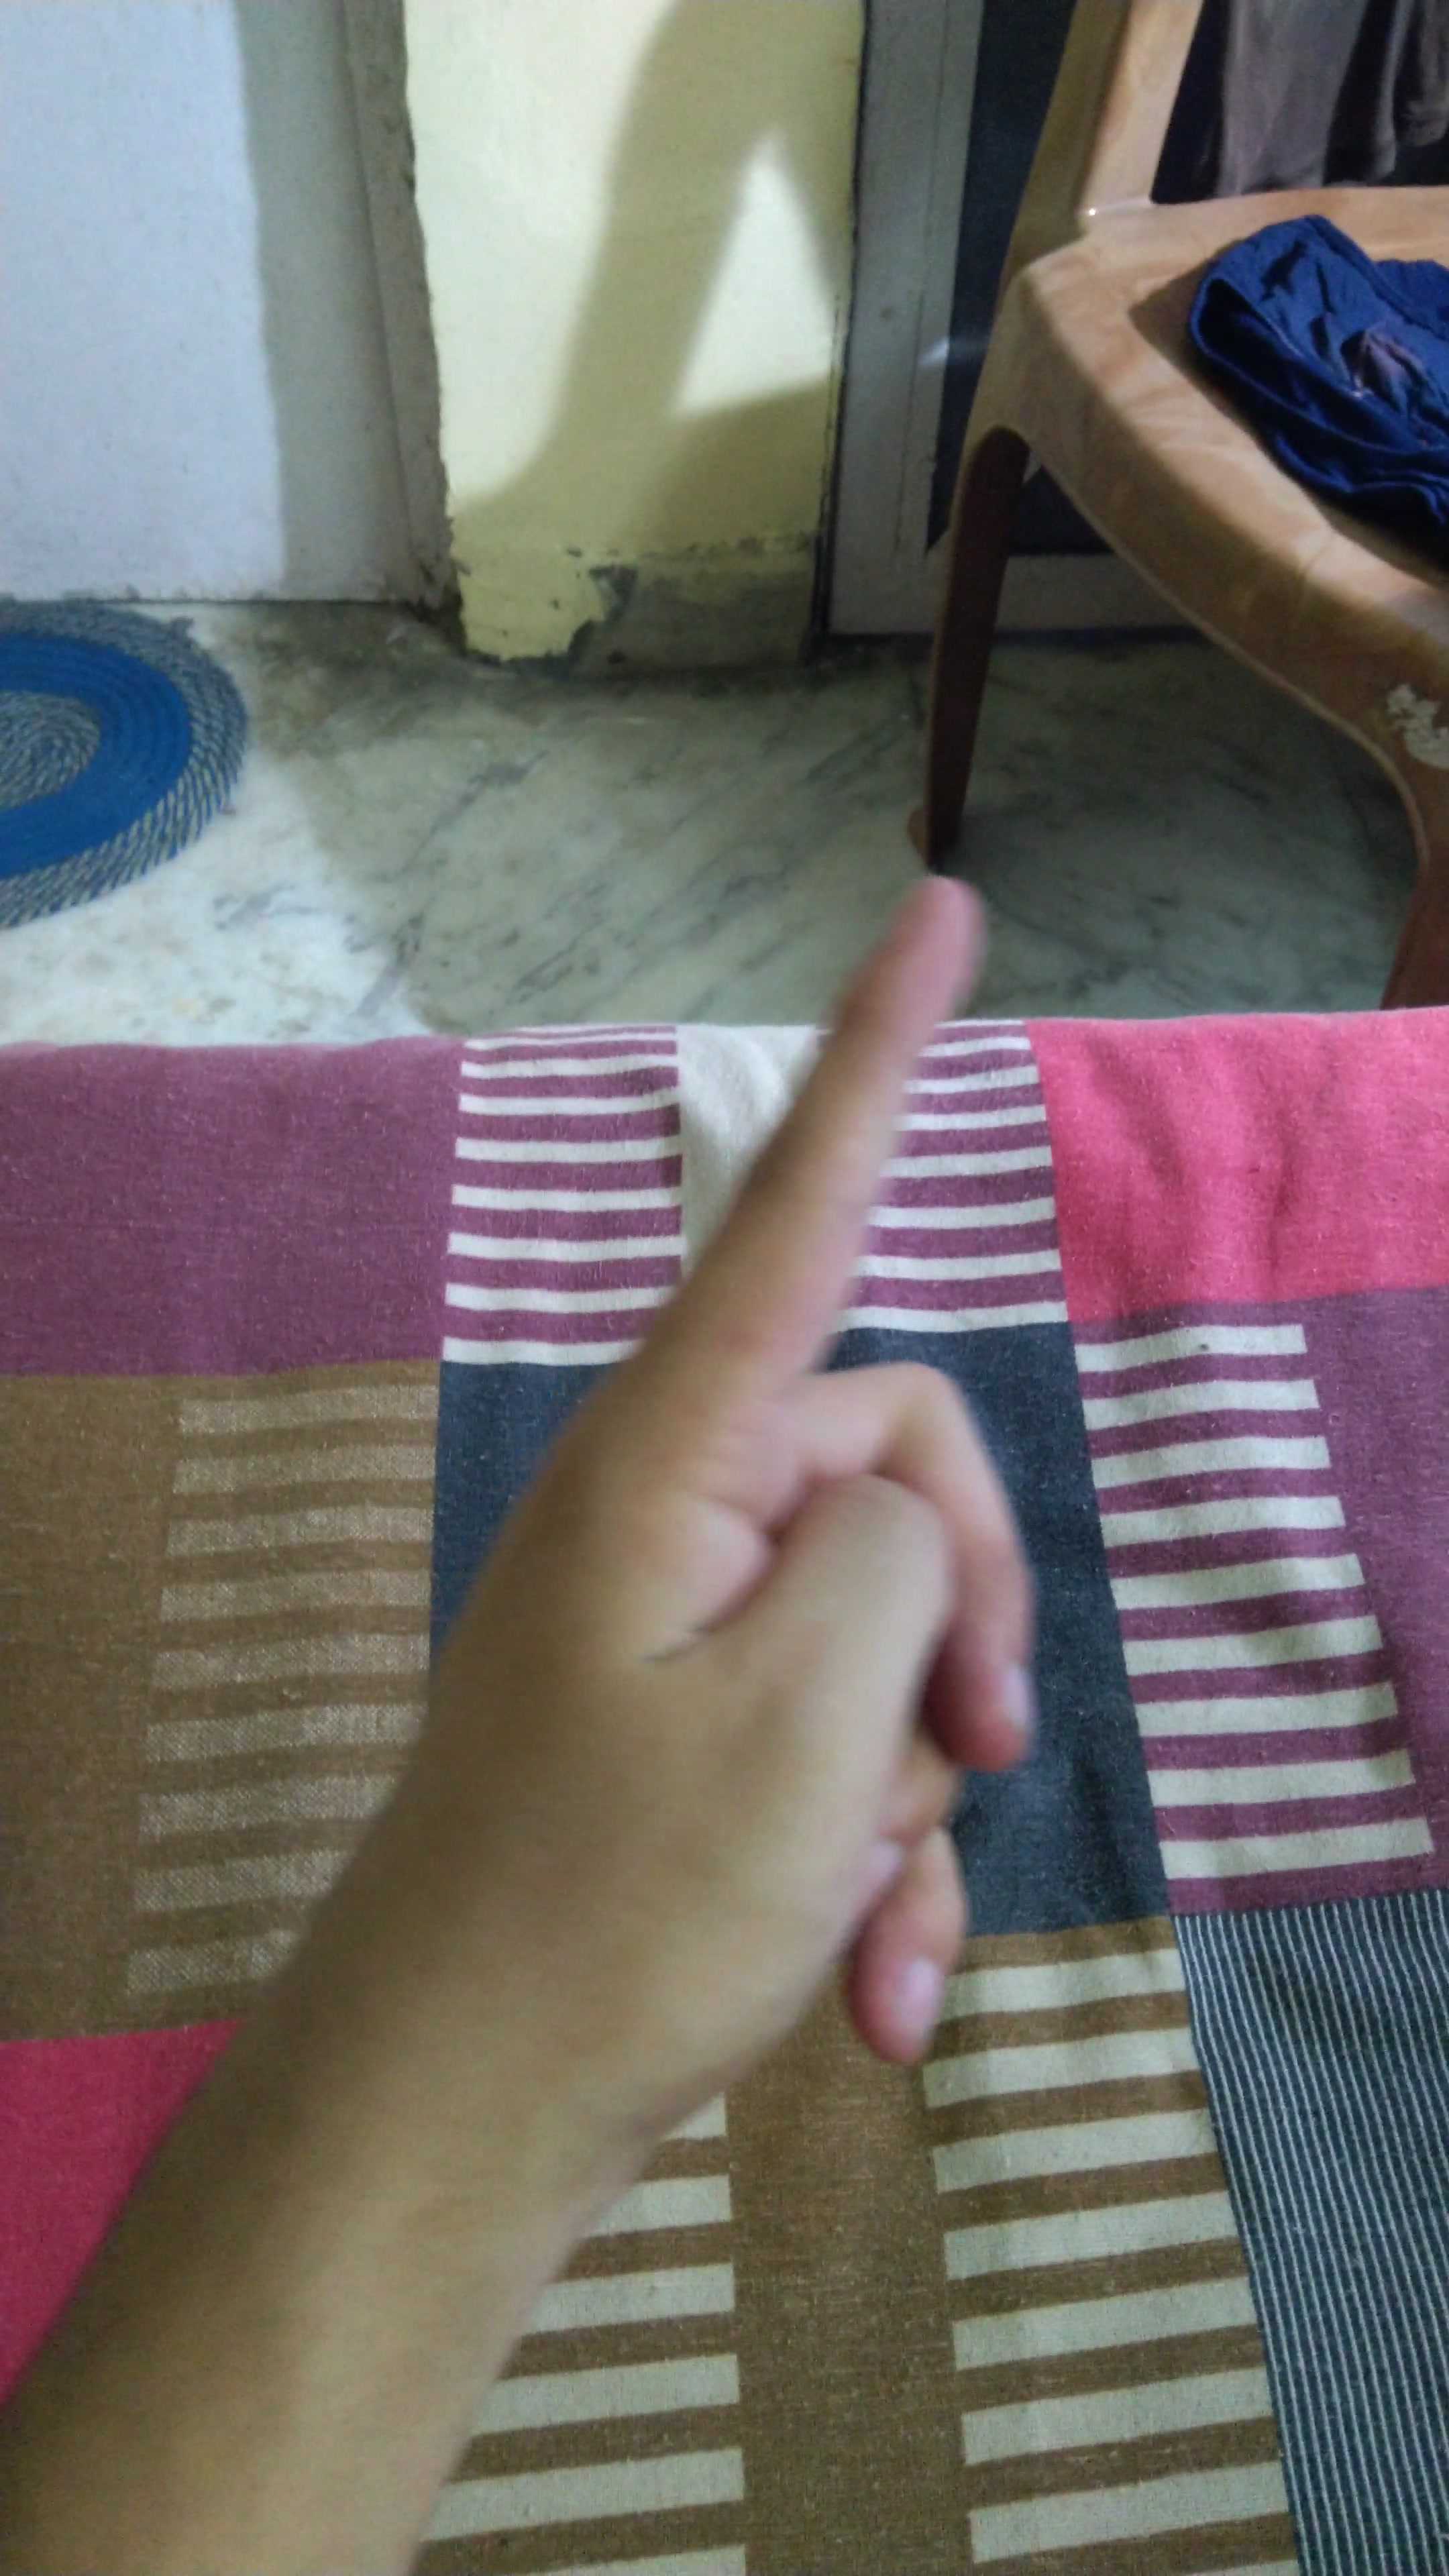hand: (301, 823, 1192, 2176)
